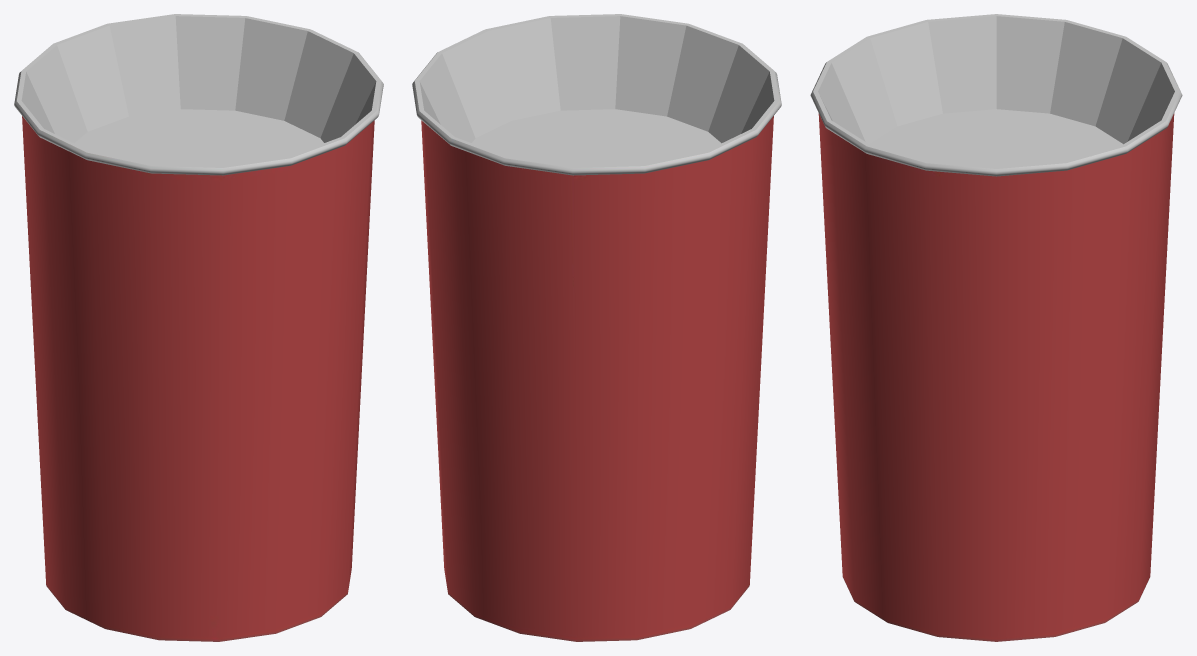
File: Cup.fbx
The picture shows the model from 3 angles, left to right: view 1: azimuth 30°, elevation 25°; view 2: azimuth 150°, elevation 25°; view 3: azimuth 270°, elevation 25°; orthographic projection.
Parts seen in each view (by area): view 1: Cup; view 2: Cup; view 3: Cup.
Boxes of the visible parts, x1,y1,x2,y2 form: Cup: [14, 14, 383, 641]; Cup: [412, 14, 781, 641]; Cup: [810, 14, 1182, 641].
Size of the model in its own units: 0.4895 by 0.7045 by 0.4895.
Materials: 1 (1 with a texture image).
